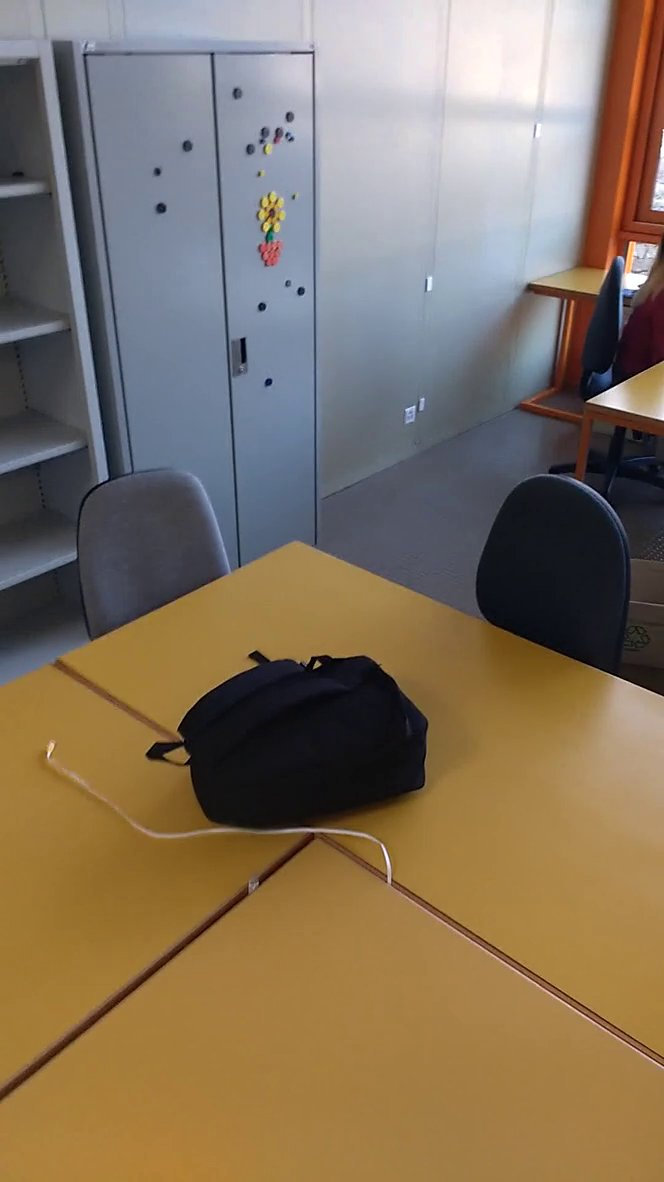bag: (136, 642, 470, 852)
chair: (469, 457, 640, 701), (66, 457, 246, 655)
